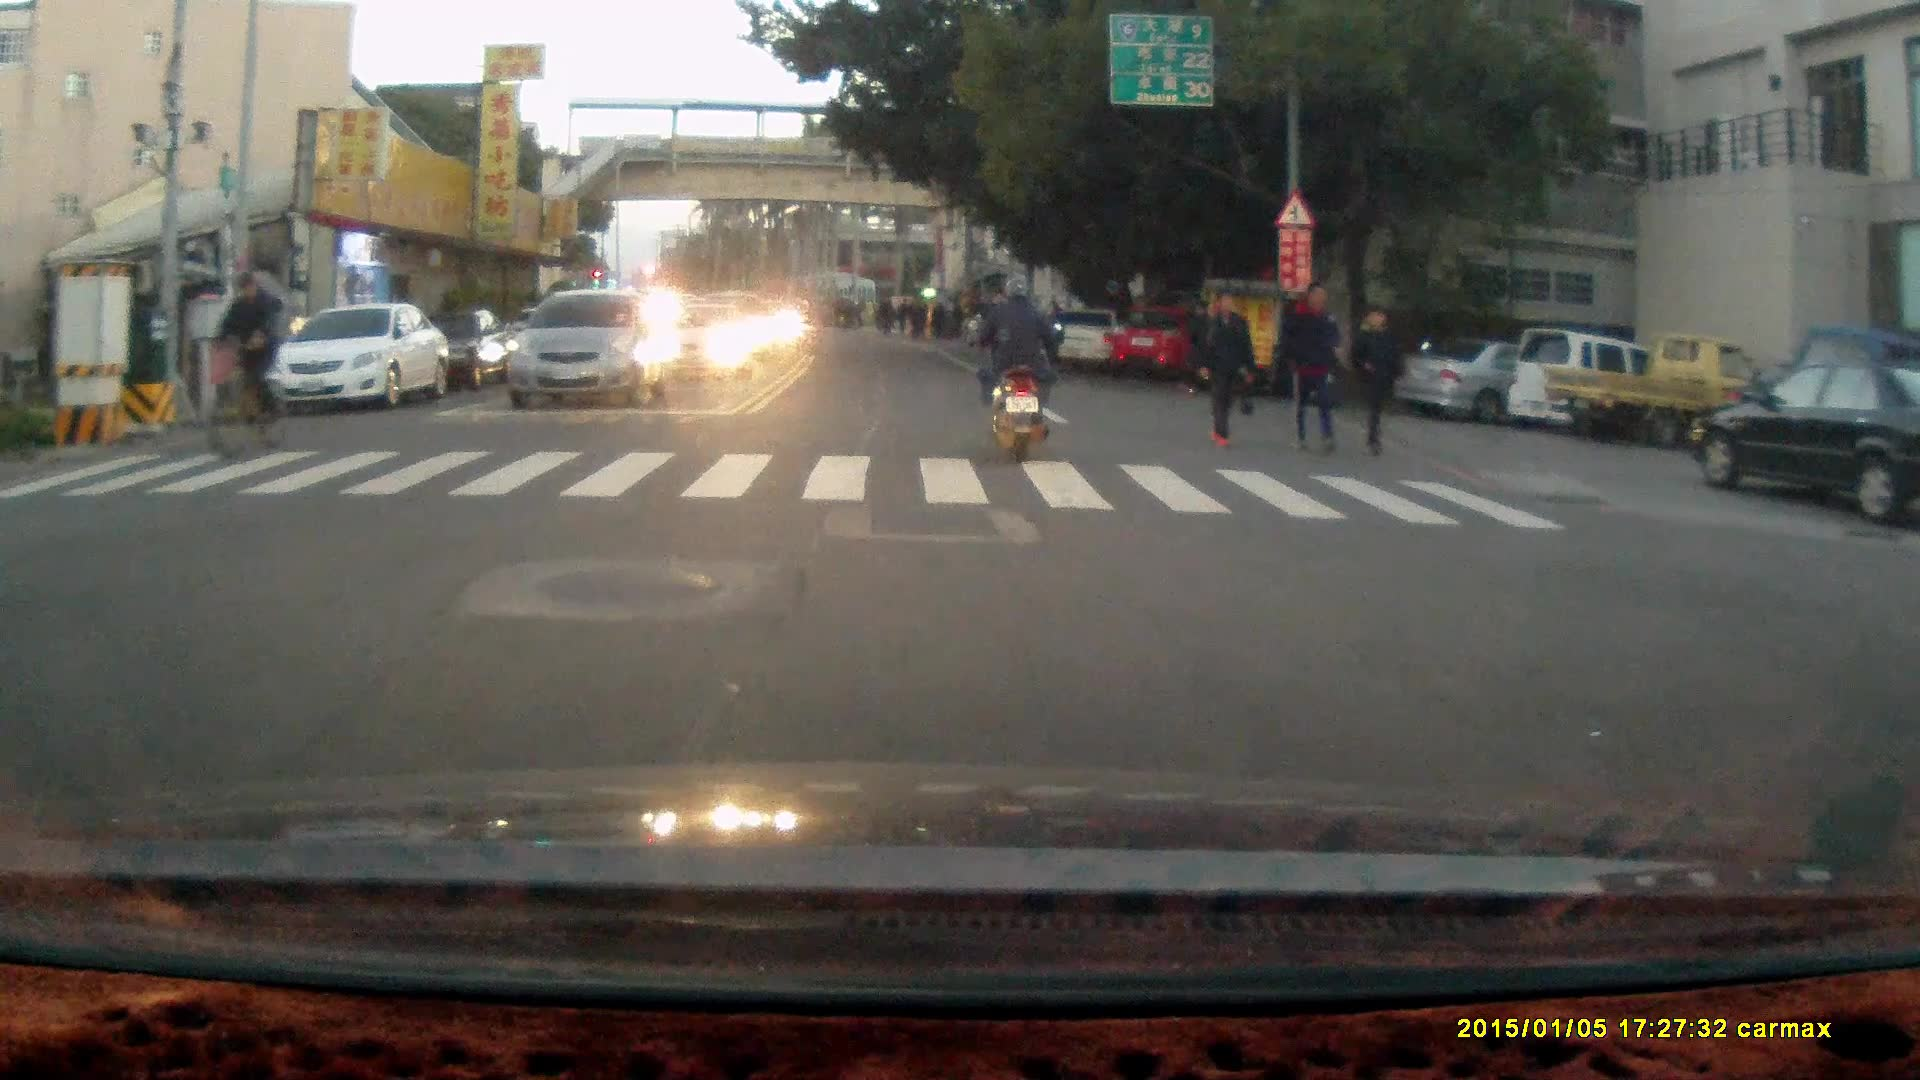pedestrian: (1192, 288, 1256, 455), (1281, 281, 1337, 459), (1350, 303, 1402, 456), (1184, 296, 1219, 397)
rider: (193, 269, 288, 463), (966, 276, 1057, 468)
vehicle: (1688, 357, 1920, 519), (1539, 329, 1769, 440), (264, 300, 450, 414), (496, 287, 667, 408), (1400, 334, 1608, 416), (401, 304, 525, 397), (658, 304, 755, 388), (1106, 304, 1202, 378)
